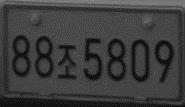0: (128, 38, 151, 82)
5: (83, 37, 103, 81)
8: (106, 38, 127, 82), (34, 34, 54, 79), (11, 34, 31, 77)
9: (154, 39, 174, 83)
조: (56, 43, 78, 81)
